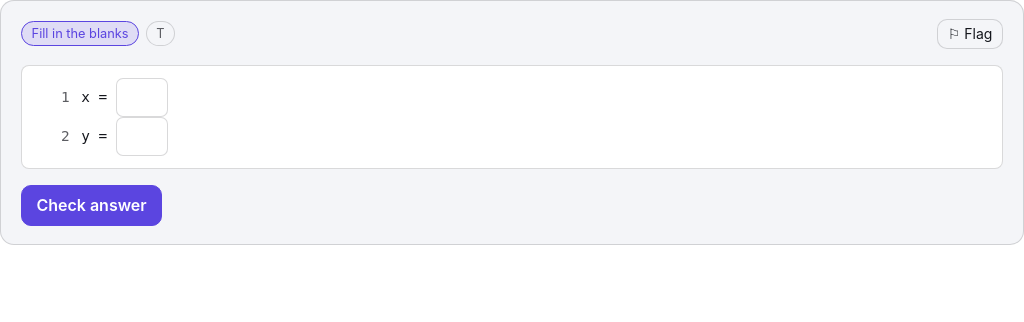
Test: fill-blank › text mode: type, check, see per-blank verdicts and the right answer
Step 1. Type "1" into the field named "Blank a" → point(142, 97), box [116,78,168,117]
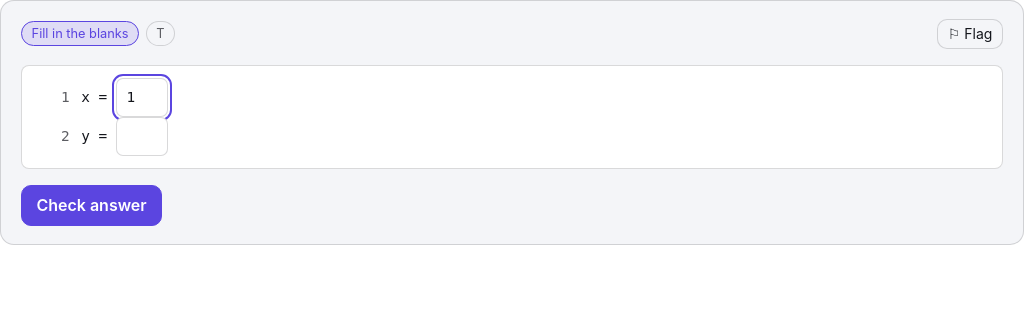
Step 2. Type "9" into the field named "Blank b" → point(142, 136), box [116,117,168,156]
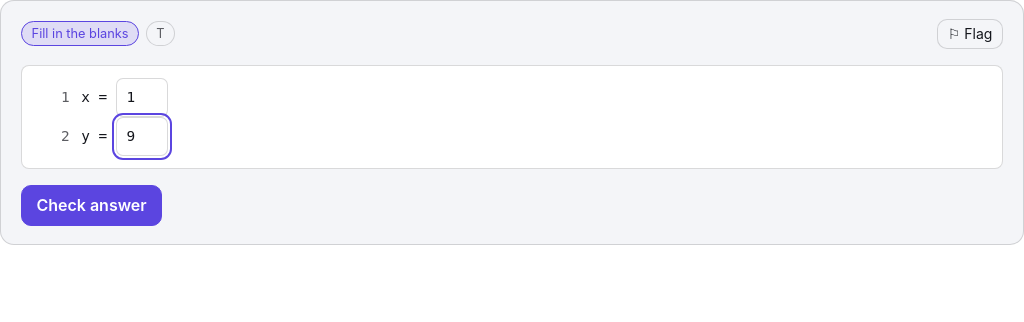
Step 3. Click the button "Check answer" → point(92, 206), box [21,185,162,226]
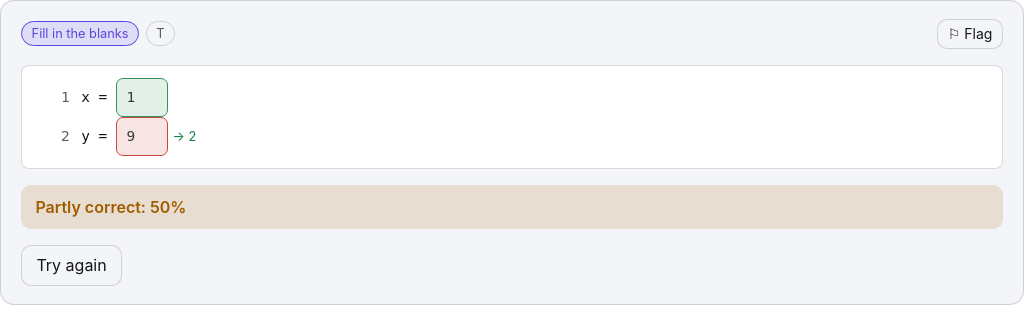
Now the message "Partly correct: 50%" is shown, box [21,185,1003,229]
Now the text "→ 2" is shown, box [173,129,196,144]
Now the field named "Blank a" is disabled, box [116,78,168,117]
